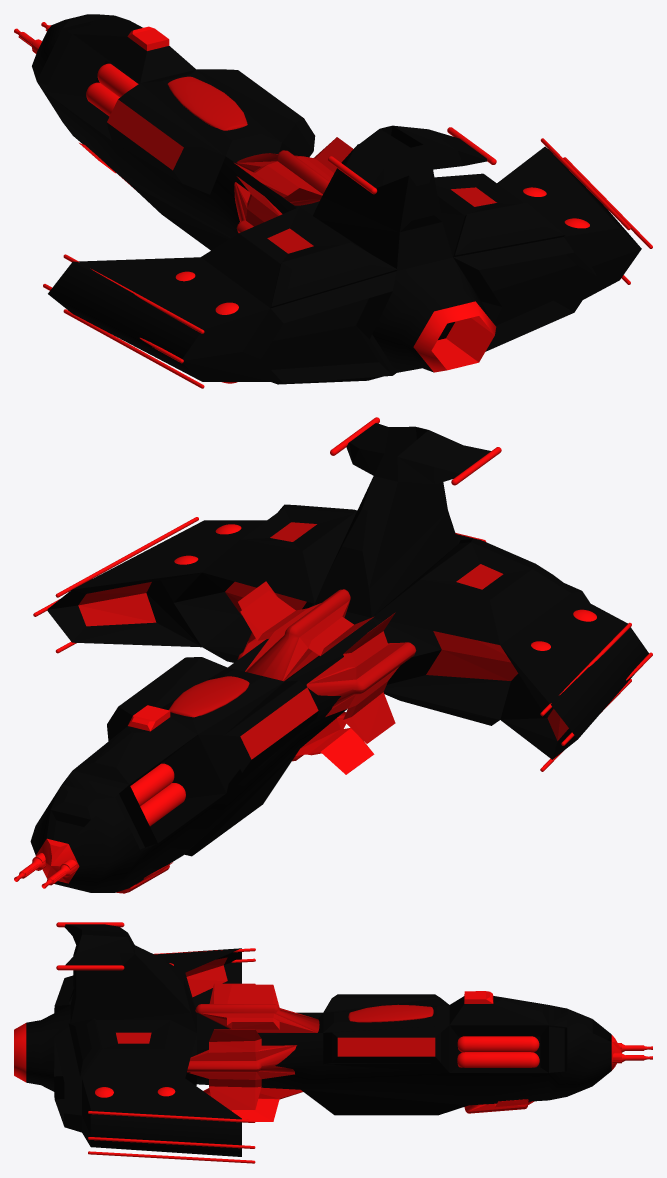
File: ship_lp3.glb
The picture shows the model from 3 angles, top to bottom: view 1: azimuth 30°, elevation 25°; view 2: azimuth 150°, elevation 25°; view 3: azimuth 270°, elevation 25°; orthographic projection. The views are drawn at different scales.
Parts seen in each view (by area): view 1: ChamferCyl2134_black mat for body_0, ChamferCyl2134_07 - Default_0, ChamferCyl2134_567_0; view 2: ChamferCyl2134_black mat for body_0, ChamferCyl2134_07 - Default_0, ChamferCyl2134_567_0; view 3: ChamferCyl2134_black mat for body_0, ChamferCyl2134_07 - Default_0, ChamferCyl2134_567_0.
Boxes of the visible parts, x1=… form: ChamferCyl2134_black mat for body_0: x1=32, y1=14, x2=641, y2=384; ChamferCyl2134_07 - Default_0: x1=107, y1=76, x2=496, y2=253; ChamferCyl2134_567_0: x1=14, y1=22, x2=652, y2=388; ChamferCyl2134_black mat for body_0: x1=30, y1=423, x2=648, y2=892; ChamferCyl2134_07 - Default_0: x1=78, y1=522, x2=568, y2=759; ChamferCyl2134_567_0: x1=14, y1=417, x2=652, y2=893; ChamferCyl2134_black mat for body_0: x1=26, y1=924, x2=611, y2=1156; ChamferCyl2134_07 - Default_0: x1=116, y1=957, x2=435, y2=1109; ChamferCyl2134_567_0: x1=14, y1=922, x2=652, y2=1163.
Size of the model in its own units: 2.01 by 0.8869 by 2.86.
